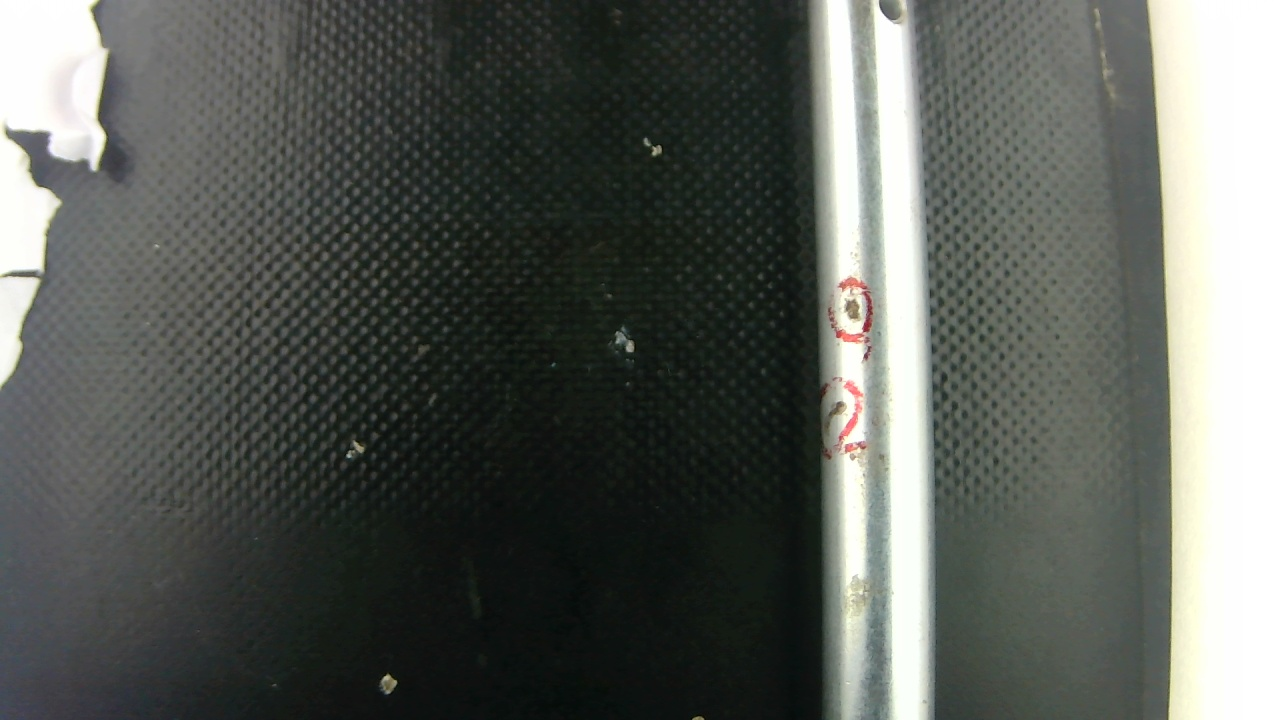rust_pin: (839, 569, 886, 622)
